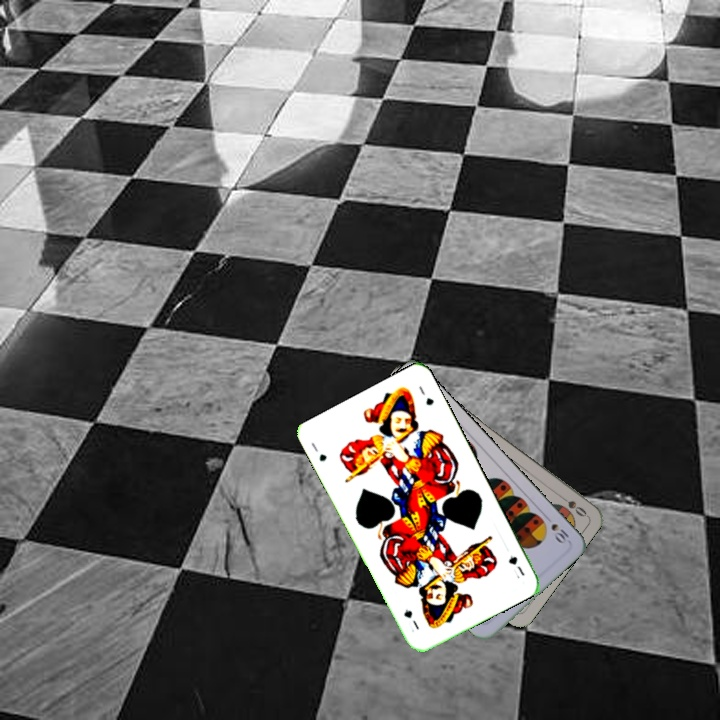GU: (504, 551, 527, 578), (307, 438, 330, 464)
S10: (547, 519, 572, 547)
SO: (554, 490, 589, 519)
